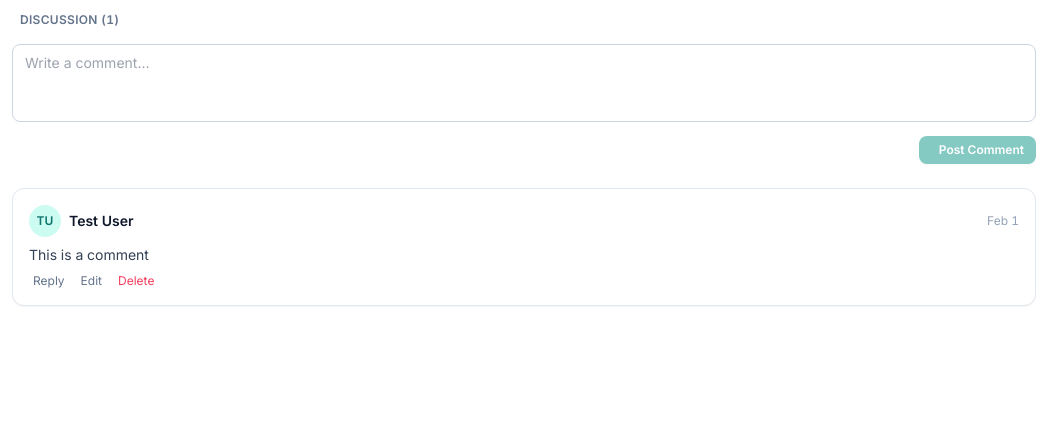
Test: CommentSectionComponent › shows reply form when Reply is clicked
The width and height of the screenshot is (1048, 437).
Click the button "Reply".
click(47, 281)  # box [29, 273, 65, 289]
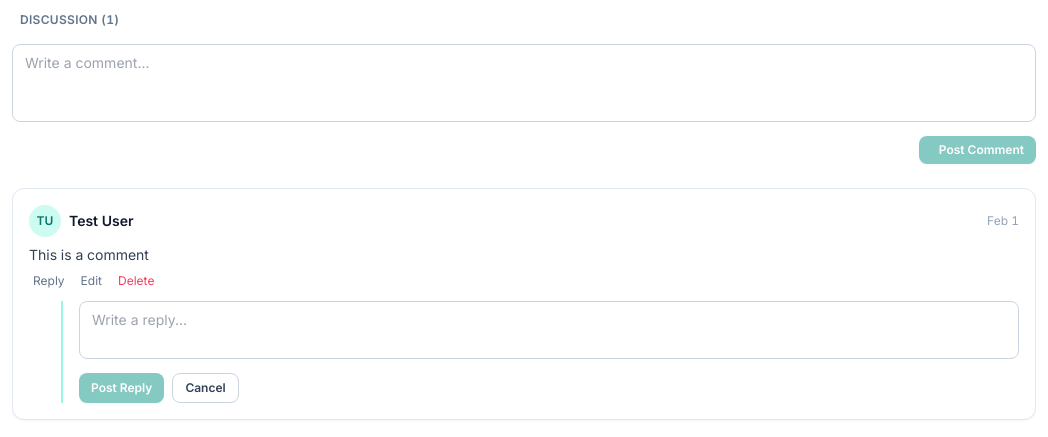
Expected: the text box with placeholder "Write a reply..." is shown, [79, 301, 1019, 359]
Expected: the button "Post Reply" is shown, [79, 373, 164, 403]
